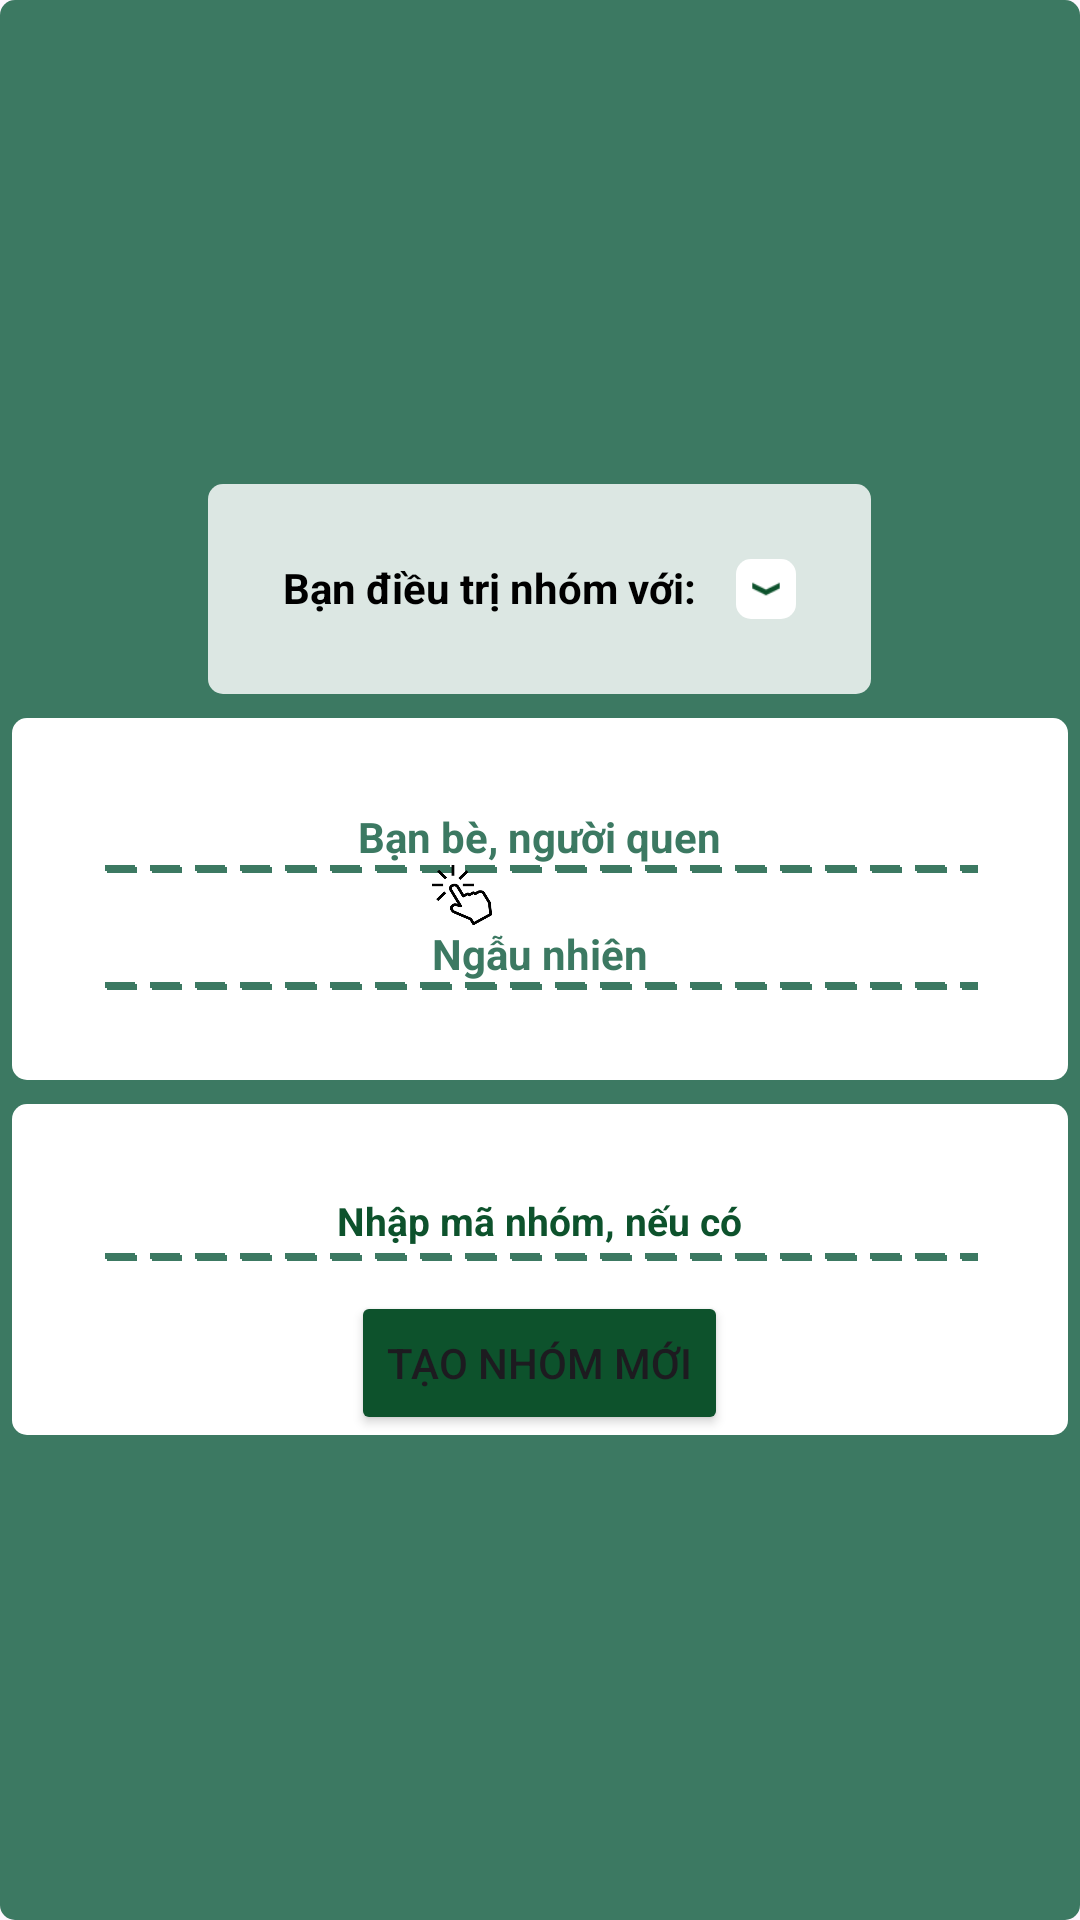

Icons on this 1080×1920 Android screen, each with its box as (x1, y1, x2, y2):
click: (432, 865, 492, 925)
down: (736, 559, 796, 619)
